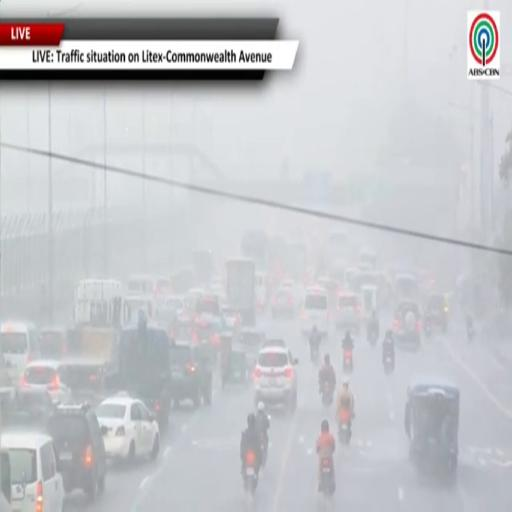car: (116, 326, 172, 431), (48, 404, 107, 502), (0, 431, 64, 511), (96, 393, 160, 462), (254, 347, 297, 411), (170, 342, 212, 407), (59, 358, 109, 406), (0, 323, 40, 380), (20, 360, 70, 403), (2, 389, 54, 430), (301, 286, 329, 335), (393, 301, 421, 347), (239, 327, 265, 367), (335, 293, 362, 331), (39, 327, 68, 360), (424, 294, 448, 332), (271, 287, 294, 317), (185, 288, 206, 314), (223, 307, 242, 335), (255, 271, 267, 311), (262, 339, 287, 348), (280, 279, 294, 290)
motorcycle: (244, 451, 258, 495), (321, 457, 335, 497), (338, 409, 351, 444), (322, 381, 333, 407), (383, 349, 394, 374), (260, 432, 267, 469), (343, 348, 353, 373), (367, 329, 378, 346), (310, 344, 319, 362), (424, 318, 432, 338), (467, 327, 474, 342)
truck: (68, 280, 128, 376), (225, 259, 255, 326)
